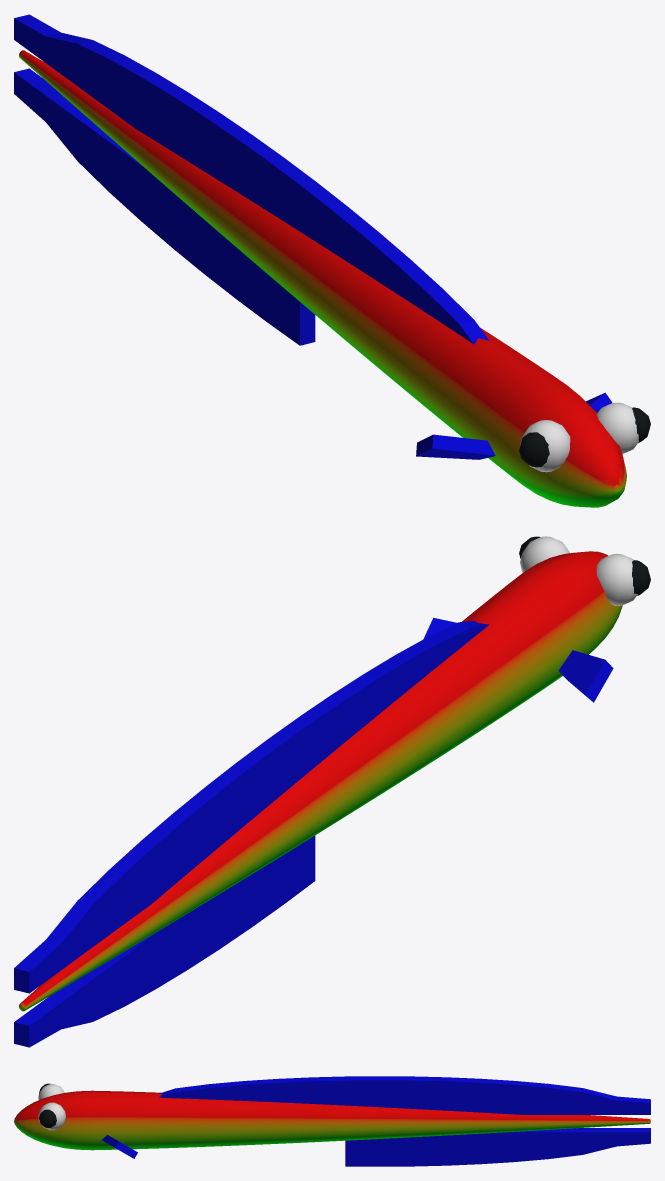
The model's file is fish_eel.glb.
3 views of the same model, one above another, from view 1: azimuth 30°, elevation 25°; view 2: azimuth 150°, elevation 25°; view 3: azimuth 270°, elevation 25° (orthographic). The views are drawn at different scales.
Visible parts, largest first — view 1: Body, Eye; view 2: Body, Eye; view 3: Body, Eye.
Part boxes in pixels (x1=…): Body: x1=14, y1=14, x2=626, y2=507; Eye: x1=519, y1=402, x2=650, y2=472; Body: x1=14, y1=551, x2=622, y2=1047; Eye: x1=519, y1=536, x2=650, y2=605; Body: x1=14, y1=1076, x2=650, y2=1166; Eye: x1=38, y1=1083, x2=65, y2=1130.
Size of the model in its own units: 0.1756 by 0.15 by 1.
